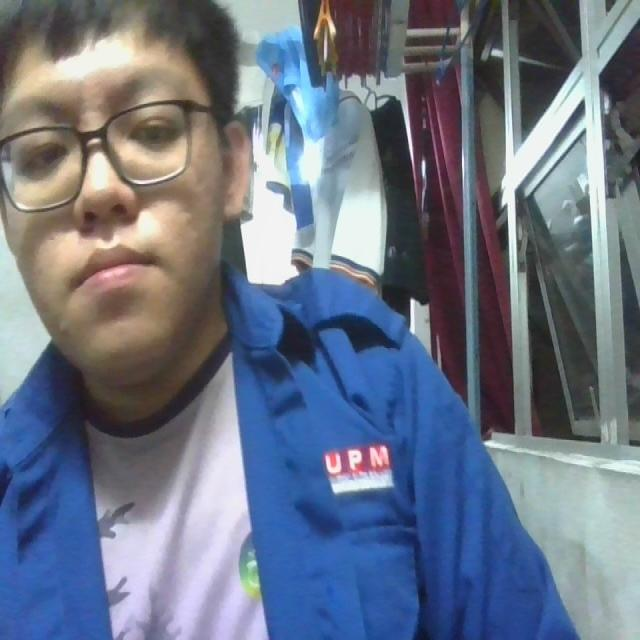person_with_labcoat: (0, 0, 626, 639)
